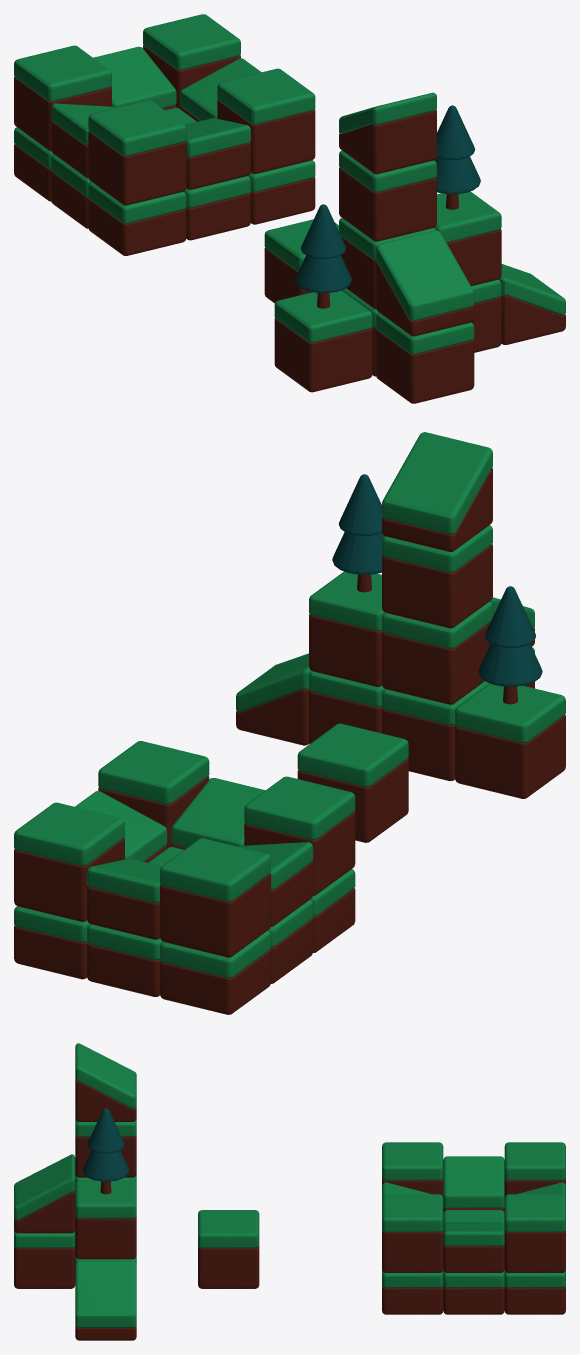
Rendered from Tutorial_3_Seperate.glb.
3 views of the same model, one above another, from view 1: azimuth 30°, elevation 25°; view 2: azimuth 150°, elevation 25°; view 3: azimuth 270°, elevation 25° (orthographic). The views are drawn at different scales.
Visible parts, largest first — view 1: tileHigh_forest (×12), tileSlopeLowHigh_forest (×3), tileMedium_forest (×5), tileSlopeLowMedium_forest (×4), tree_forest (×2); view 2: tileHigh_forest (×11), tileMedium_forest (×5), tileSlopeLowHigh_forest (×2), tileSlopeLowMedium_forest (×4), tree_forest (×2); view 3: tileHigh_forest (×9), tileSlopeLowHigh_forest (×3), tileMedium_forest (×3), tileSlopeLowMedium_forest (×4), tree_forest.
Boxes of the visible parts, <box> form: tileHigh_forest (×12): <box>14,14,501,403</box>; tileSlopeLowHigh_forest (×3): <box>339,92,565,344</box>; tileMedium_forest (×5): <box>14,127,315,255</box>; tileSlopeLowMedium_forest (×4): <box>51,46,261,189</box>; tree_forest (×2): <box>295,105,480,308</box>; tileHigh_forest (×11): <box>14,525,565,957</box>; tileMedium_forest (×5): <box>14,869,355,1014</box>; tileSlopeLowHigh_forest (×2): <box>236,432,492,745</box>; tileSlopeLowMedium_forest (×4): <box>75,778,313,939</box>; tree_forest (×2): <box>332,474,542,704</box>; tileHigh_forest (×9): <box>14,1119,565,1288</box>; tileSlopeLowHigh_forest (×3): <box>14,1043,136,1340</box>; tileMedium_forest (×3): <box>382,1270,565,1314</box>; tileSlopeLowMedium_forest (×4): <box>382,1156,565,1272</box>; tree_forest: <box>82,1108,129,1194</box>.
Bounding box in the file's own units: 8 × 8 × 18.
